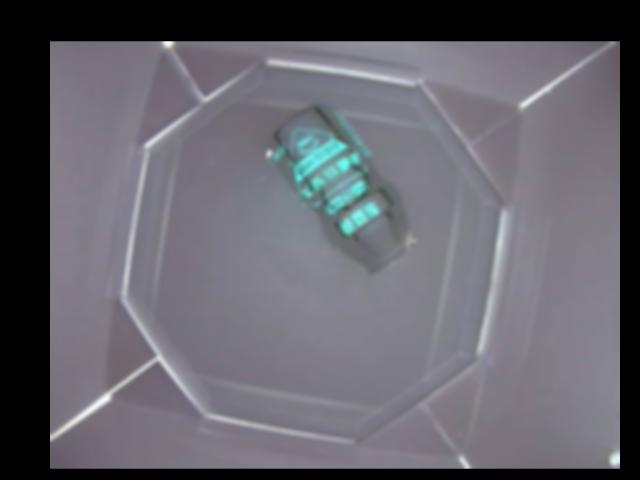Bottle: (261, 100, 420, 277)
